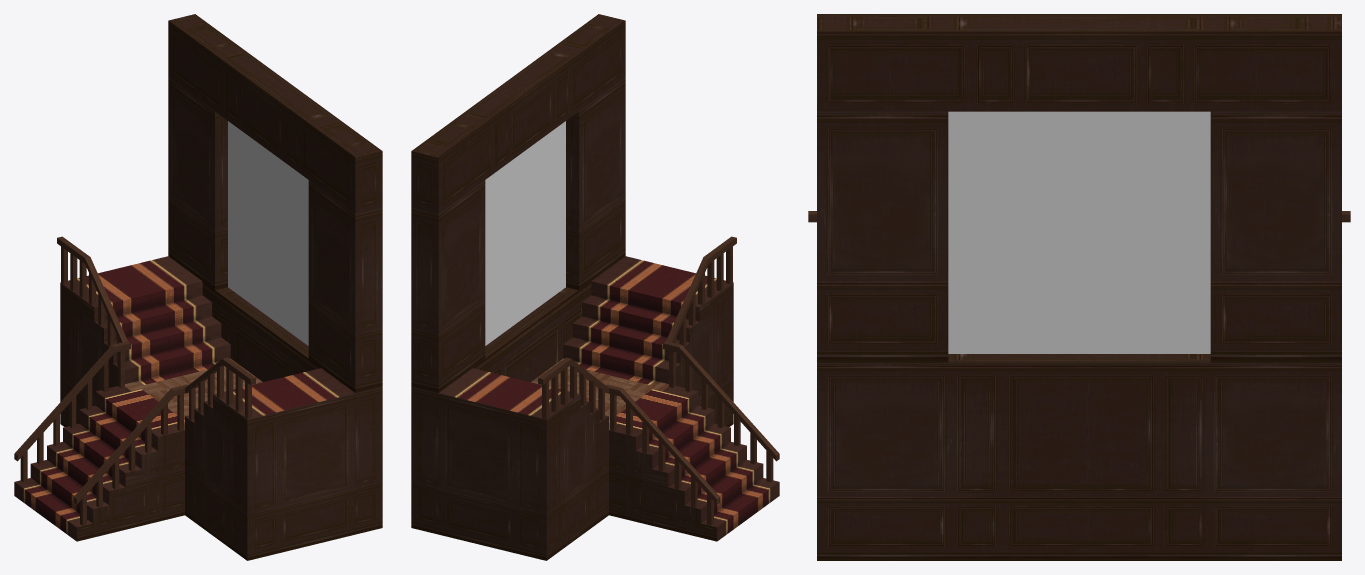
Rendered from stairs_m1.fbx.
The picture shows the model from 3 angles, left to right: view 1: azimuth 30°, elevation 25°; view 2: azimuth 150°, elevation 25°; view 3: azimuth 270°, elevation 25°; orthographic projection. The views are drawn at different scales.
Visible parts, largest first — view 1: Stairs, WindowHugeMosaic, FloorMid; view 2: Stairs, WindowHugeMosaic, FloorMid; view 3: Stairs, WindowHugeColour.
Boxes of the visible parts, box(x1,y1,x2,y2) form: Stairs: box(14, 14, 382, 560); WindowHugeMosaic: box(228, 121, 308, 345); FloorMid: box(125, 358, 262, 429); Stairs: box(411, 14, 779, 560); WindowHugeMosaic: box(485, 121, 565, 345); FloorMid: box(531, 358, 668, 429); Stairs: box(808, 14, 1350, 560); WindowHugeColour: box(948, 111, 1210, 353).
Bounding box in the file's own units: 12.4 × 9 × 13.33.
